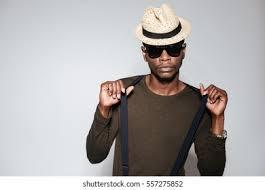cap: (130, 2, 196, 45)
sunglasses: (144, 42, 186, 63)
